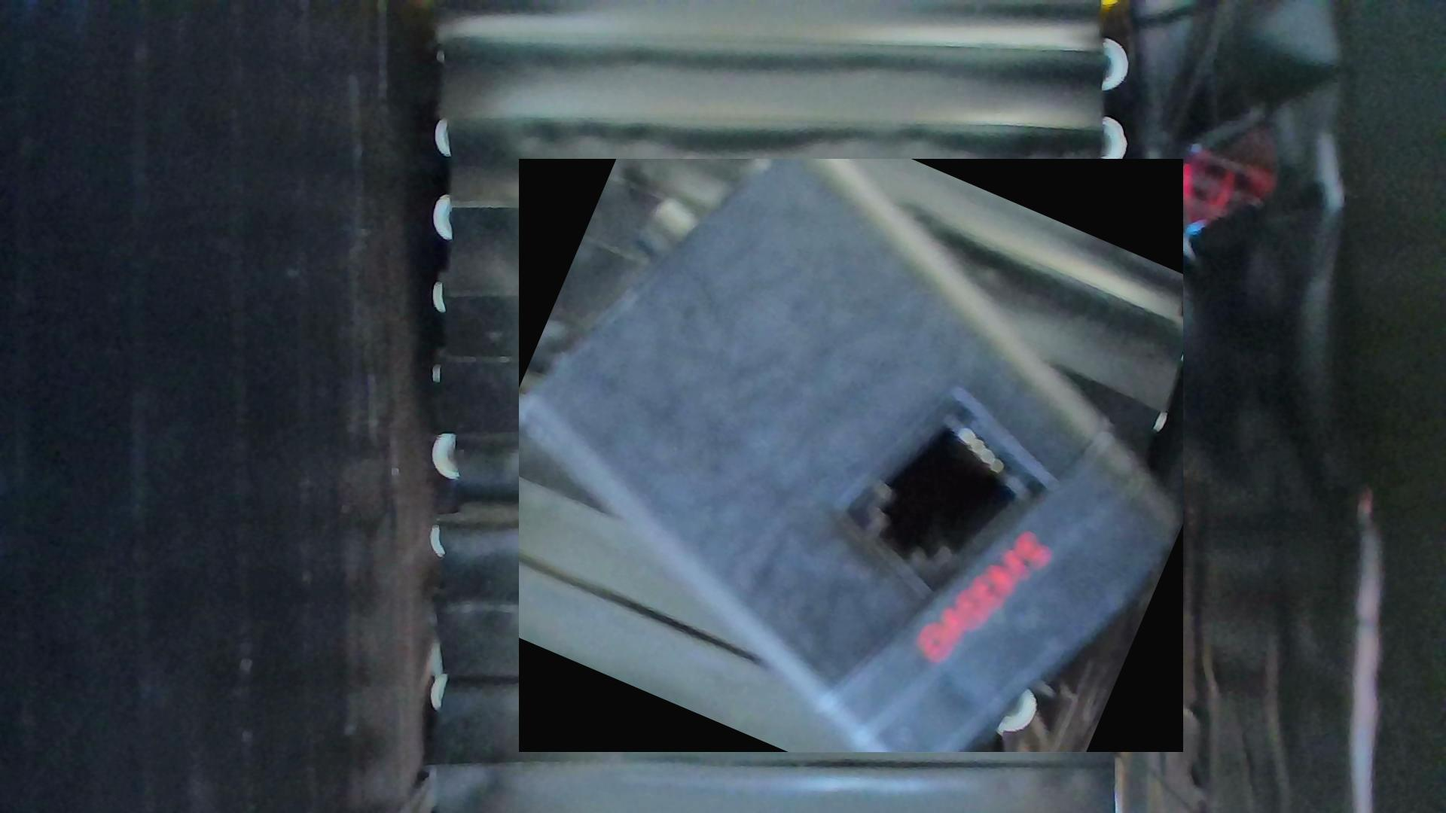motor: (519, 160, 1183, 753)
